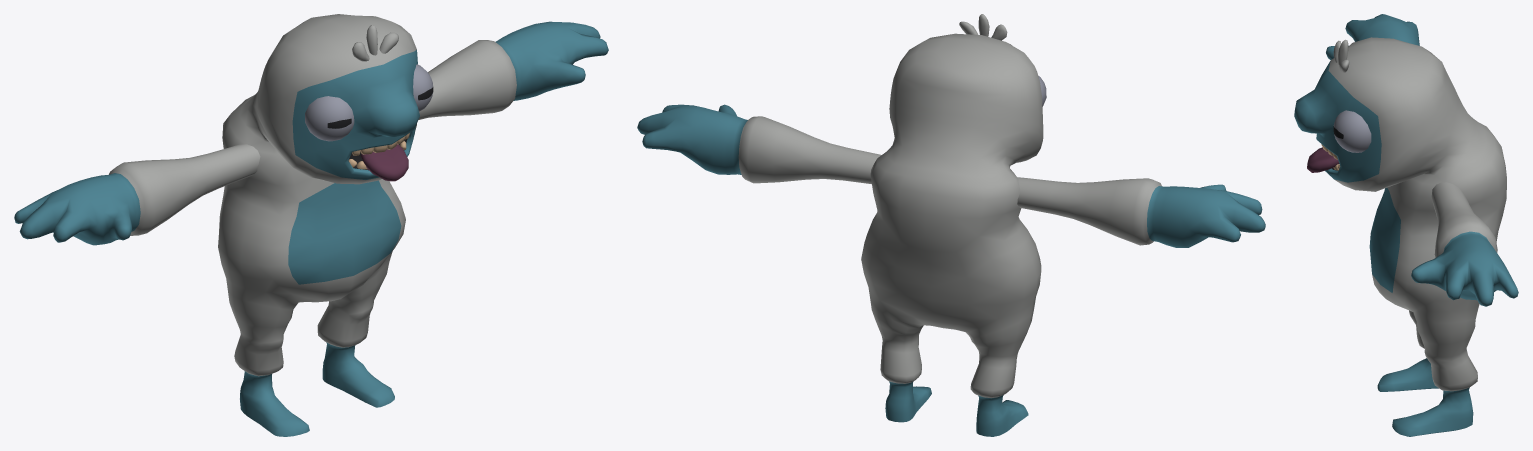
Rendered from Yeti.fbx.
3 renders of one model, left to right at view 1: azimuth 30°, elevation 25°; view 2: azimuth 150°, elevation 25°; view 3: azimuth 270°, elevation 25°, orthographic. The views are drawn at different scales.
Visible parts, largest first — view 1: Yeti; view 2: Yeti; view 3: Yeti.
Part boxes in pixels (x1,y1,x2,y2): Yeti: (14, 14, 608, 436); Yeti: (637, 14, 1265, 436); Yeti: (1294, 14, 1518, 436).
Size of the model in its own units: 459 by 283 by 154.
